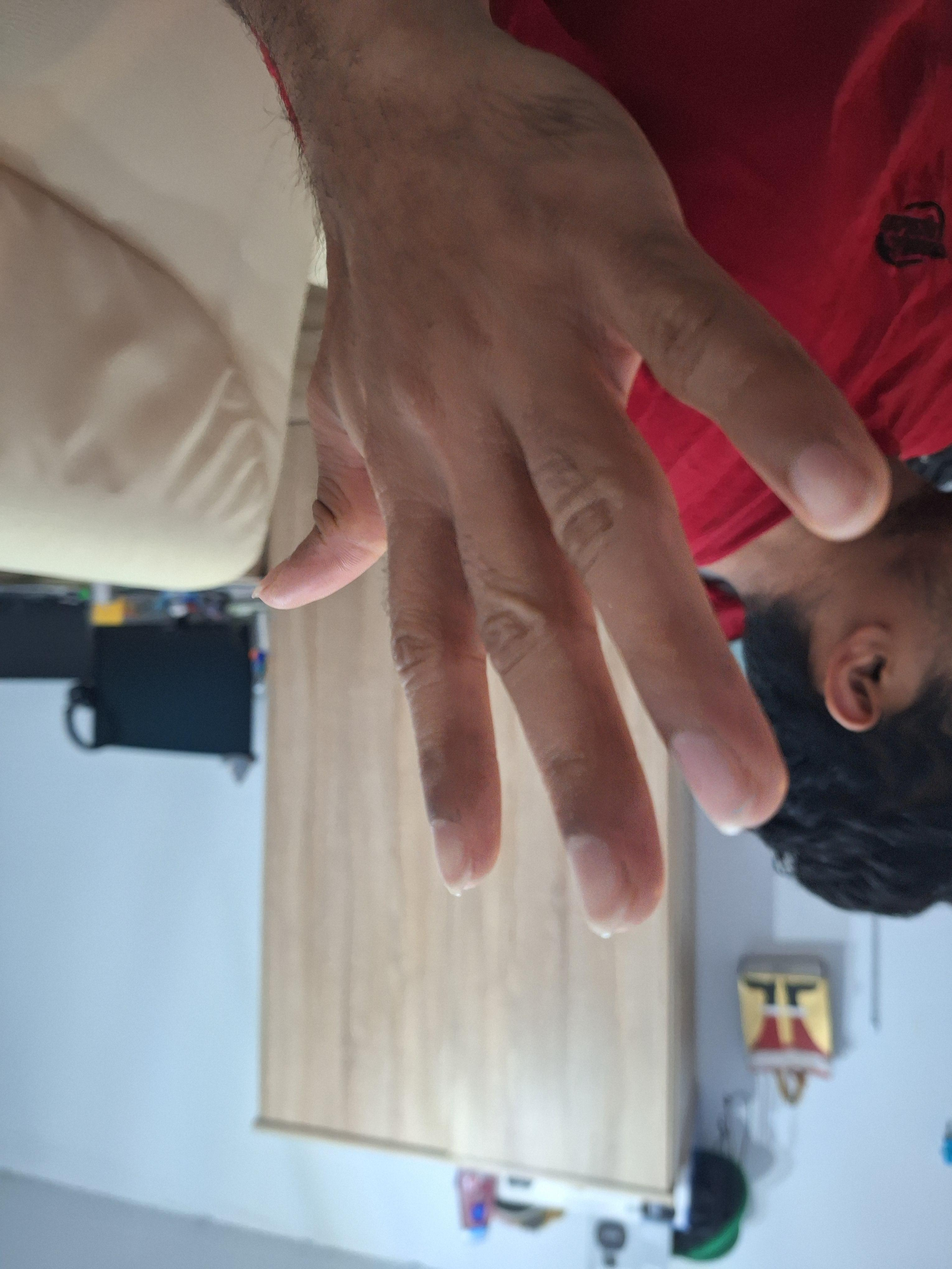Fingernail: (674, 732, 755, 836), (787, 443, 872, 529), (568, 833, 632, 935), (432, 819, 471, 895)
